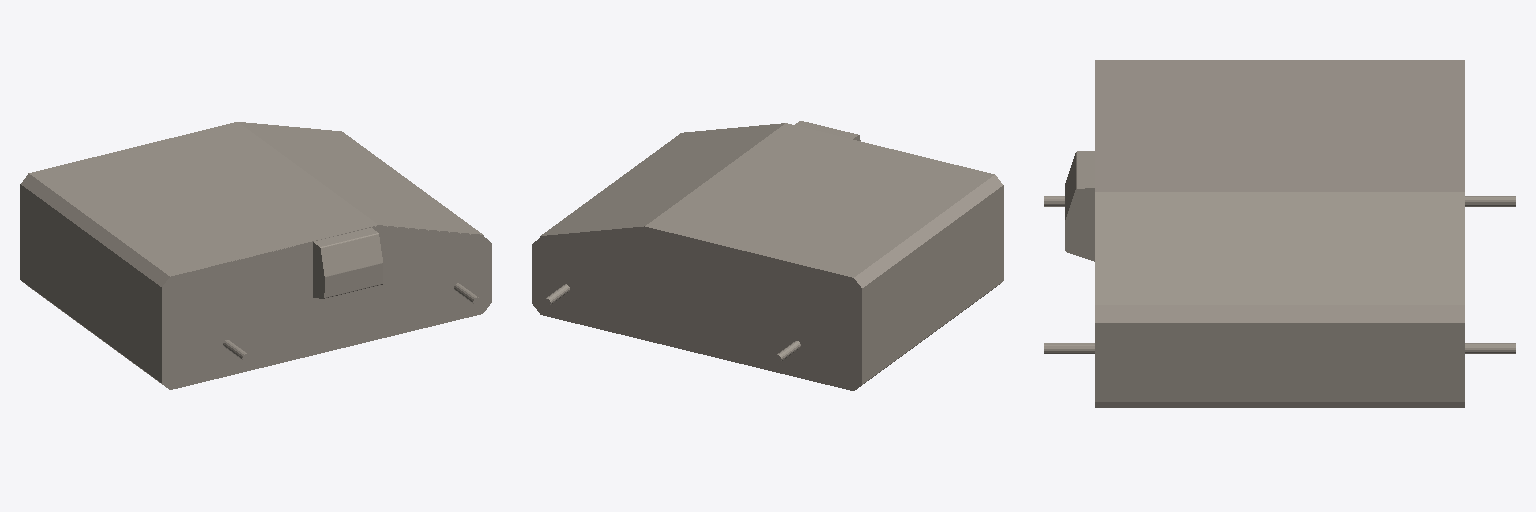
The robot description file, URDF, robot "drrobot_jaguar_description":
<robot
  name="drrobot_jaguar_description">
  <link
    name="base_footprint">
    <inertial>
      <origin
        xyz="0 0 0"
        rpy="0 0 0" />
      <mass
        value="0.0001" />
      <inertia
        ixx="0.0001"
        ixy="0.0"
        ixz="0.0"
        iyy="0.0001"
        iyz="0.0"
        izz="0.0001" />
    </inertial>
    <visual>
      <origin
        xyz="0 0 0"
        rpy="0 0 0" />
      <geometry>
        <box size="0.001 0.001 0.001" />
      </geometry>
      <material
        name="">
        <color
          rgba="0.64706 0.61961 0.58431 1" />
      </material>
    </visual>
  </link>

  <link
    name="base_link">
    <inertial>
      <origin
        xyz="0.19049 -0.0046024 0.0060695"
        rpy="0 0 0" />
      <mass
        value="7.2274" />
      <inertia
        ixx="0.22086"
        ixy="0.0015969"
        ixz="-0.00102"
        iyy="0.32218"
        iyz="0.0067711"
        izz="0.16373" />
    </inertial>
    <visual>
      <origin
        xyz="0 0 0"
        rpy="0 0 0" />
      <geometry>
        <mesh
          filename="package://drrobot_jaguar_description/meshes/base_link.STL" />
      </geometry>
      <material
        name="">
        <color
          rgba="0.64706 0.61961 0.58431 1" />
      </material>
    </visual>
    <collision>
      <origin
        xyz="0 0 0"
        rpy="0 0 0" />
      <geometry>
        <mesh
          filename="package://drrobot_jaguar_description/meshes/base_link.STL" />
      </geometry>
    </collision>
  </link>
  <joint
    name="base_footprint_joint"
    type="fixed">
    <origin
      xyz="-0.18415 0 0.16"
      rpy="0 0 0" />
    <parent
      link="base_footprint" />
    <child
      link="base_link" />
  </joint>
  <link
    name="Empty_Linkfl">
    <inertial>
      <origin
        xyz="0.025476 -6.9389E-18 -2.7756E-17"
        rpy="0 0 0" />
      <mass
        value="9.5179" />
      <inertia
        ixx="0.049835"
        ixy="1.6352E-19"
        ixz="-8.0961E-19"
        iyy="0.030937"
        iyz="-4.3368E-19"
        izz="0.030937" />
    </inertial>
    <visual>
      <origin
        xyz="0 0 0"
        rpy="0 0 0" />
      <geometry>
        <mesh
          filename="package://drrobot_jaguar_description/meshes/Empty_Linkfl.STL" />
      </geometry>
      <material
        name="">
        <color
          rgba="0.29412 0.29412 0.29412 1" />
      </material>
    </visual>
    <collision>
      <origin
        xyz="0 0 0"
        rpy="0 0 0" />
      <geometry>
        <mesh
          filename="package://drrobot_jaguar_description/meshes/Empty_Linkfl.STL" />
      </geometry>
    </collision>
  </link>
  <joint
    name="jointfl"
    type="continuous">
    <origin
      xyz="-0.084022 0.19986 -0.035256"
      rpy="1.4054 0 0" />
    <parent
      link="base_link" />
    <child
      link="Empty_Linkfl" />
    <axis
      xyz="-1 0 0" />
  </joint>
  <link
    name="Empty_Linkrl">
    <inertial>
      <origin
        xyz="0.025024 1.0408E-17 -2.7756E-17"
        rpy="0 0 0" />
      <mass
        value="9.5179" />
      <inertia
        ixx="0.049835"
        ixy="9.1521E-19"
        ixz="-1.8522E-18"
        iyy="0.030908"
        iyz="1.0842E-18"
        izz="0.030908" />
    </inertial>
    <visual>
      <origin
        xyz="0 0 0"
        rpy="0 0 0" />
      <geometry>
        <mesh
          filename="package://drrobot_jaguar_description/meshes/Empty_Linkrl.STL" />
      </geometry>
      <material
        name="">
        <color
          rgba="0.29412 0.29412 0.29412 1" />
      </material>
    </visual>
    <collision>
      <origin
        xyz="0 0 0"
        rpy="0 0 0" />
      <geometry>
        <mesh
          filename="package://drrobot_jaguar_description/meshes/Empty_Linkrl.STL" />
      </geometry>
    </collision>
  </link>
  <joint
    name="jointrl"
    type="continuous">
    <origin
      xyz="-0.083399 -0.15123 -0.03515"
      rpy="1.6208 0 0" />
    <parent
      link="base_link" />
    <child
      link="Empty_Linkrl" />
    <axis
      xyz="-1 0 0" />
  </joint>
  <link
    name="Empty_Linkfr">
    <inertial>
      <origin
        xyz="0.013767 1.3878E-17 5.5511E-17"
        rpy="0 0 0" />
      <mass
        value="9.5179" />
      <inertia
        ixx="0.049835"
        ixy="-3.5149E-19"
        ixz="-2.4477E-18"
        iyy="0.030961"
        iyz="0"
        izz="0.030961" />
    </inertial>
    <visual>
      <origin
        xyz="0 0 0"
        rpy="0 0 0" />
      <geometry>
        <mesh
          filename="package://drrobot_jaguar_description/meshes/Empty_Linkfr.STL" />
      </geometry>
      <material
        name="">
        <color
          rgba="0.29412 0.29412 0.29412 1" />
      </material>
    </visual>
    <collision>
      <origin
        xyz="0 0 0"
        rpy="0 0 0" />
      <geometry>
        <mesh
          filename="package://drrobot_jaguar_description/meshes/Empty_Linkfr.STL" />
      </geometry>
    </collision>
  </link>
  <joint
    name="jointfr"
    type="continuous">
    <origin
      xyz="0.41667 0.19986 -0.035256"
      rpy="1.3212 0 0" />
    <parent
      link="base_link" />
    <child
      link="Empty_Linkfr" />
    <axis
      xyz="-1 0 0" />
  </joint>
  <link
    name="Empty_Linkrr">
    <inertial>
      <origin
        xyz="0.014358 -1.3878E-17 8.3267E-17"
        rpy="0 0 0" />
      <mass
        value="9.5179" />
      <inertia
        ixx="0.049835"
        ixy="6.4931E-19"
        ixz="-3.4671E-18"
        iyy="0.030921"
        iyz="3.2526E-19"
        izz="0.030921" />
    </inertial>
    <visual>
      <origin
        xyz="0 0 0"
        rpy="0 0 0" />
      <geometry>
        <mesh
          filename="package://drrobot_jaguar_description/meshes/Empty_Linkrr.STL" />
      </geometry>
      <material
        name="">
        <color
          rgba="0.29412 0.29412 0.29412 1" />
      </material>
    </visual>
    <collision>
      <origin
        xyz="0 0 0"
        rpy="0 0 0" />
      <geometry>
        <mesh
          filename="package://drrobot_jaguar_description/meshes/Empty_Linkrr.STL" />
      </geometry>
    </collision>
  </link>
  <joint
    name="jointrr"
    type="continuous">
    <origin
      xyz="0.41573 -0.15123 -0.03515"
      rpy="1.5341 0 0" />
    <parent
      link="base_link" />
    <child
      link="Empty_Linkrr" />
    <axis
      xyz="-1 0 0" />
  </joint>
</robot>

--- Facts derived from the render (not from the file) ---
The picture shows the robot from 3 angles, left to right: view 1: azimuth 30°, elevation 25°; view 2: azimuth 150°, elevation 25°; view 3: azimuth 270°, elevation 25°; orthographic projection.
Model drrobot_jaguar_description with 6 links and 5 joints (4 continuous, 1 fixed), rooted at base_footprint, posed every joint at zero.
Visible links, largest first — view 1: base_link; view 2: base_link; view 3: base_link.
Boxes of the visible links, left/top/right/bottom form: base_link: left=20, top=122, right=491, bottom=389; base_link: left=532, top=121, right=1003, bottom=390; base_link: left=1044, top=60, right=1515, bottom=407.
Size in the robot's own frame: 0.5006 by 0.4731 by 0.2401 metres.
Meshes: 5 distinct files referenced, 1 mesh visuals loaded (1 binary STL); not drawn: 4 (reference not matched to a file when rendering).